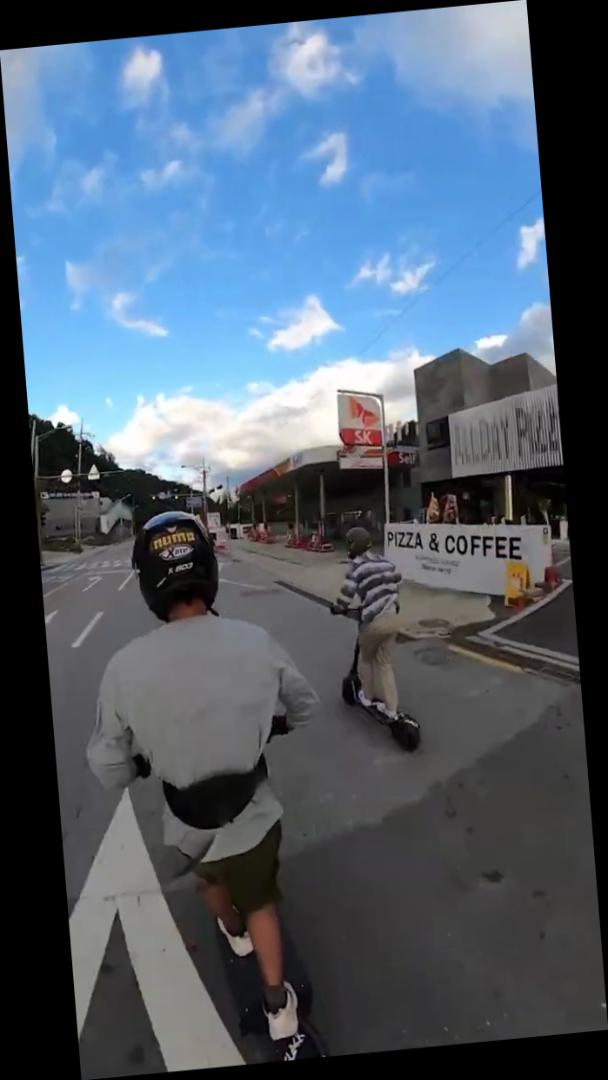helmet: (64, 495, 352, 1078), (324, 518, 428, 763)
